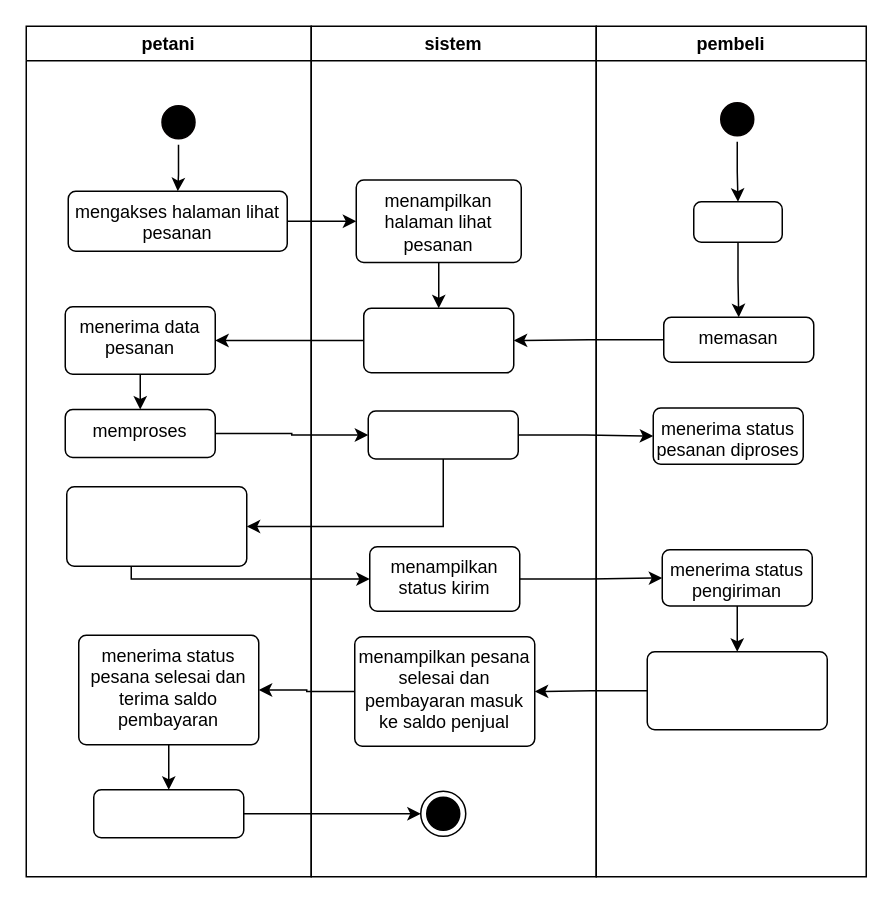
Some shapes in this 893 by 903 pixel diagram are drawn without their labels. Each missing label, with the centre of its shape:
"klik update proses mengirimkan pesanan" goes at point 156,525.
"login" goes at point 737,221.
"logout" goes at point 168,813.
"menampilkan data pesana" goes at point 438,340.
"menerima pesana lalu klik menu selesai pesanan" goes at point 736,690.
"update pesanan" goes at point 442,434.
